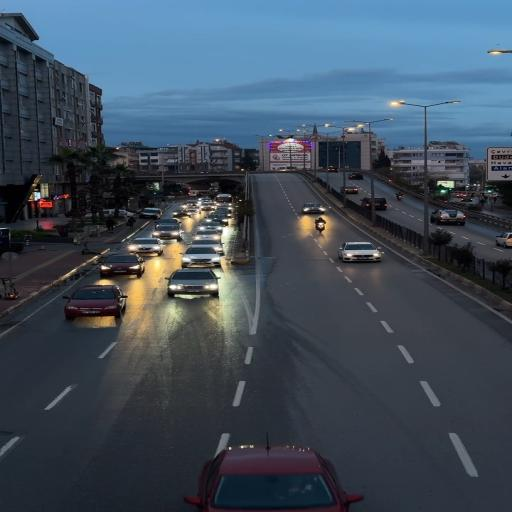bike: (299, 218, 351, 238)
car: (212, 430, 356, 512), (334, 234, 441, 283), (174, 262, 269, 308), (66, 282, 144, 328), (98, 250, 158, 280), (162, 195, 234, 217), (154, 212, 200, 245), (181, 246, 245, 269), (131, 238, 185, 264), (430, 202, 475, 232), (490, 231, 512, 267), (299, 202, 331, 220), (214, 194, 244, 208), (334, 181, 367, 193), (372, 200, 394, 212)
lights: (379, 98, 465, 246), (284, 106, 382, 195), (467, 42, 512, 98)
